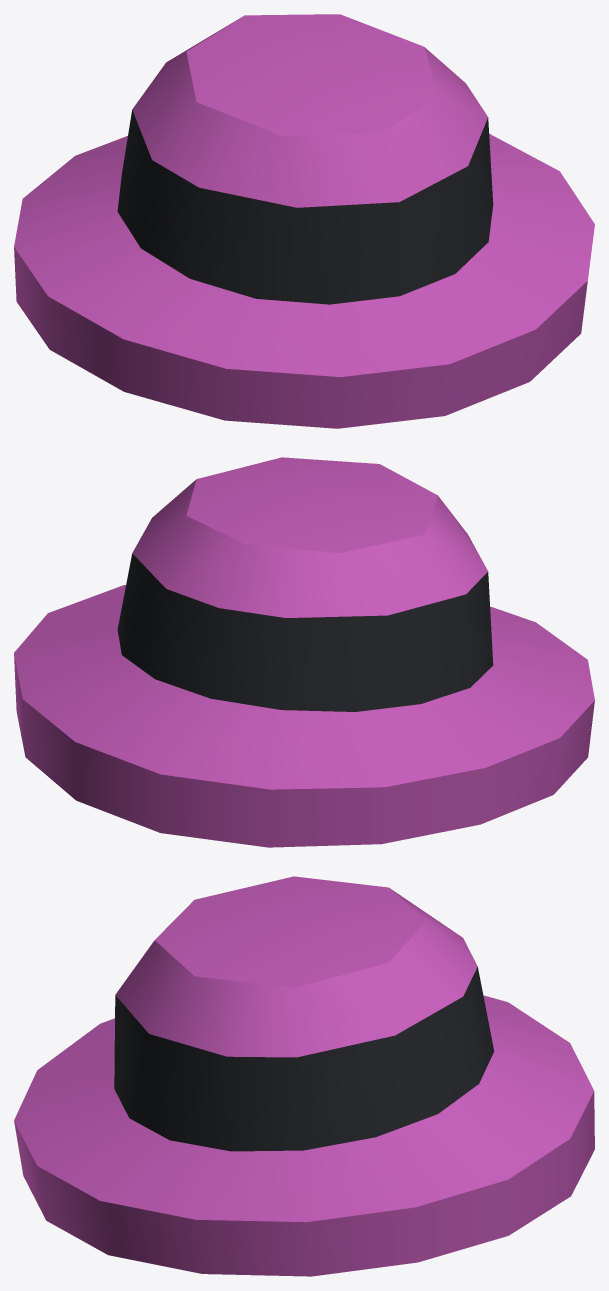
The model's file is Gipsy_Hat_02.fbx.
The picture shows the model from 3 angles, top to bottom: view 1: azimuth 30°, elevation 25°; view 2: azimuth 150°, elevation 25°; view 3: azimuth 270°, elevation 25°; orthographic projection.
Parts seen in each view (by area): view 1: Gipsy_Hat_02; view 2: Gipsy_Hat_02; view 3: Gipsy_Hat_02.
Boxes of the visible parts, bbox=[...] form: Gipsy_Hat_02: bbox=[14, 14, 594, 428]; Gipsy_Hat_02: bbox=[14, 457, 594, 847]; Gipsy_Hat_02: bbox=[14, 876, 594, 1276].
Bounding box in the file's own units: 64.55 × 30.9 × 63.2.
